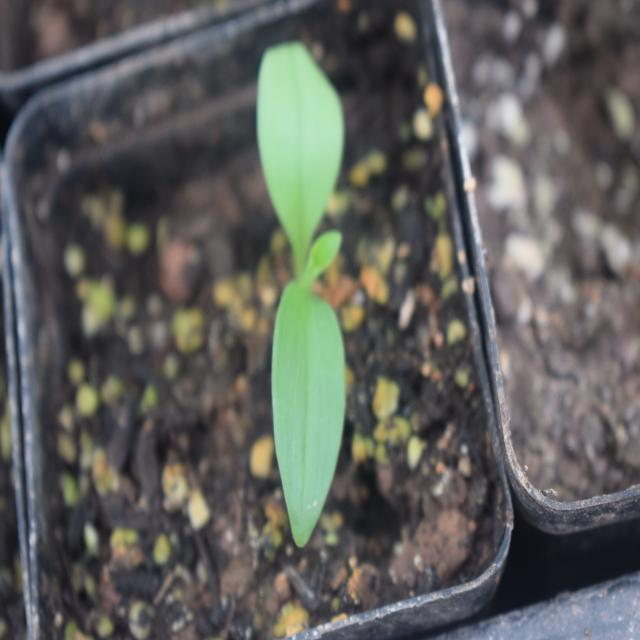Common Dayflower: (241, 27, 373, 521)
